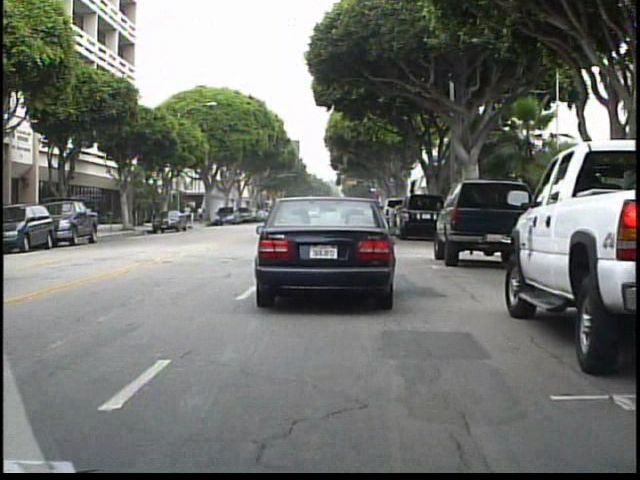person: (182, 202, 194, 227), (196, 201, 207, 226)
